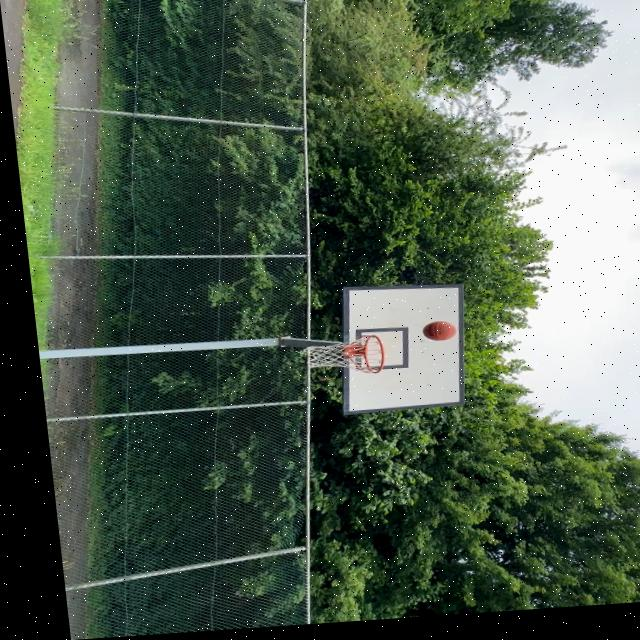Basketball: (422, 319, 458, 341)
